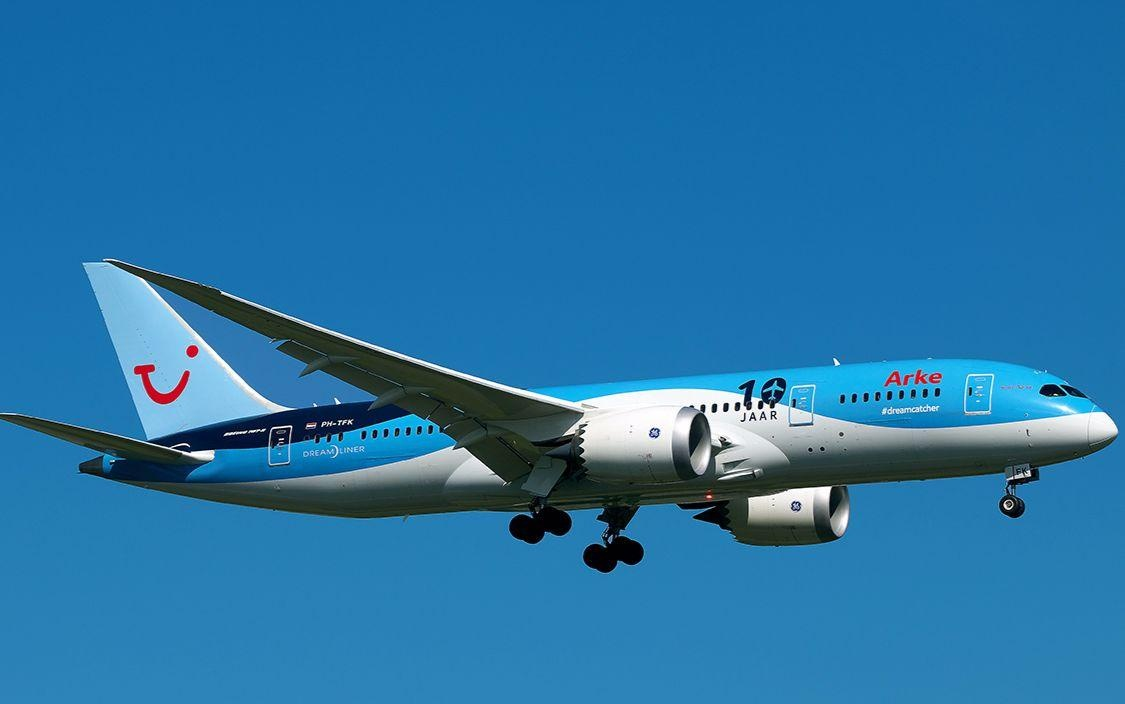airplane: (12, 256, 1118, 552)
